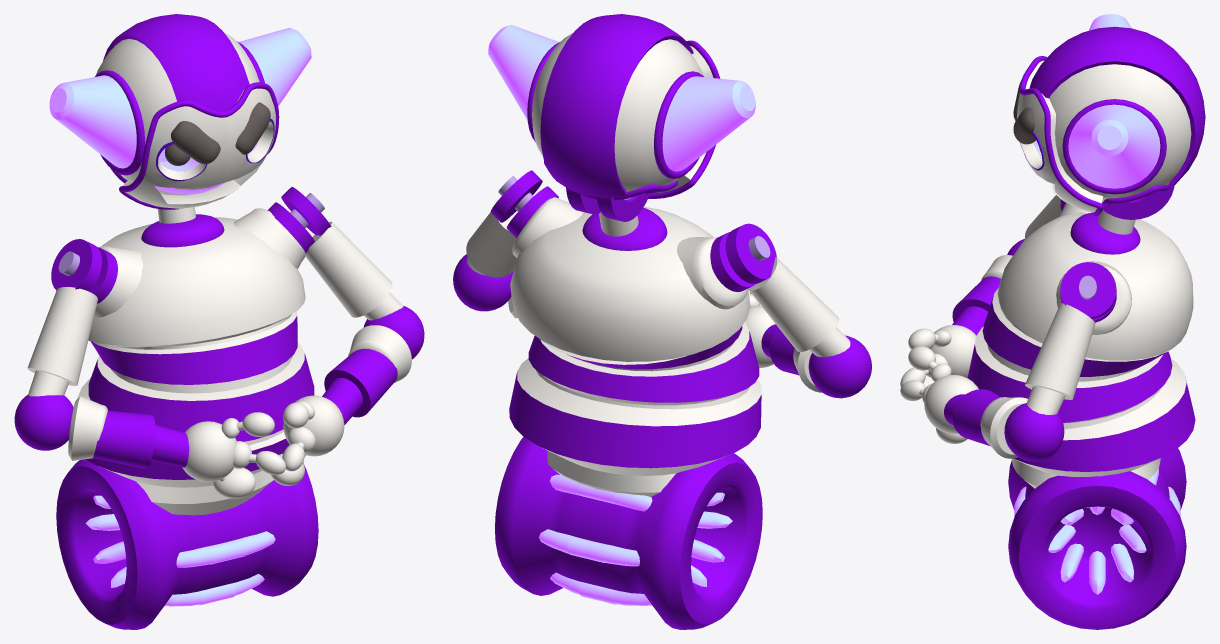
File: EnemyPlasmaSlow.fbx
3 renders of one model, left to right at view 1: azimuth 30°, elevation 25°; view 2: azimuth 150°, elevation 25°; view 3: azimuth 270°, elevation 25°, orthographic. The views are drawn at different scales.
Parts seen in each view (by area): view 1: Torso, Wheel, Bicep, Hands, MainHead.002, Mask, Bicep.002, HeadTop, MainHead, ShoulderRotation, Light, Ancle (+8 smaller); view 2: Torso, Wheel, HeadTop, MainHead.002, MainHead, Bicep, Light, ShoulderRotation, Ancle, Shoulders, Torso.003, NeckThing (+9 smaller); view 3: Torso, Wheel, HeadTop, MainHead, MainHead.002, Hands, Bicep, Light, Bicep.002, Mask, Ancle, ShoulderRotation (+10 smaller).
Boxes of the visible parts, box(x1,y1,x2,y2) form: Torso: box(77, 217, 315, 479); Wheel: box(56, 459, 318, 629); Bicep: box(27, 221, 403, 396); Hands: box(182, 395, 344, 498); MainHead.002: box(49, 28, 311, 168); Mask: box(123, 88, 276, 208); Bicep.002: box(93, 348, 397, 468); HeadTop: box(103, 14, 249, 111); MainHead: box(96, 32, 259, 195); ShoulderRotation: box(51, 187, 331, 303); Light: box(85, 489, 275, 606); Ancle: box(14, 306, 424, 450); Torso: box(509, 206, 761, 468); Wheel: box(495, 437, 762, 629); HeadTop: box(540, 14, 693, 197); MainHead.002: box(488, 25, 755, 171); MainHead: box(532, 33, 703, 192); Bicep: box(466, 211, 850, 357); Light: box(538, 474, 732, 605); ShoulderRotation: box(490, 170, 776, 292); Ancle: box(453, 254, 871, 398); Shoulders: box(512, 197, 748, 309); Torso.003: box(543, 448, 728, 496); NeckThing: box(582, 208, 667, 250); Torso: box(967, 212, 1195, 471); Wheel: box(1008, 448, 1186, 629); HeadTop: box(1029, 26, 1205, 186); MainHead: box(1033, 64, 1191, 202); MainHead.002: box(1068, 14, 1160, 188); Hands: box(900, 325, 978, 443); Bicep: box(1025, 195, 1095, 414); Light: box(1014, 467, 1180, 594); Bicep.002: box(944, 276, 1000, 446); Mask: box(1016, 60, 1102, 212); Ancle: box(1004, 239, 1064, 461); ShoulderRotation: box(1060, 199, 1116, 322).
Bounding box in the file's own units: 25.96 × 35.69 × 17.64.
